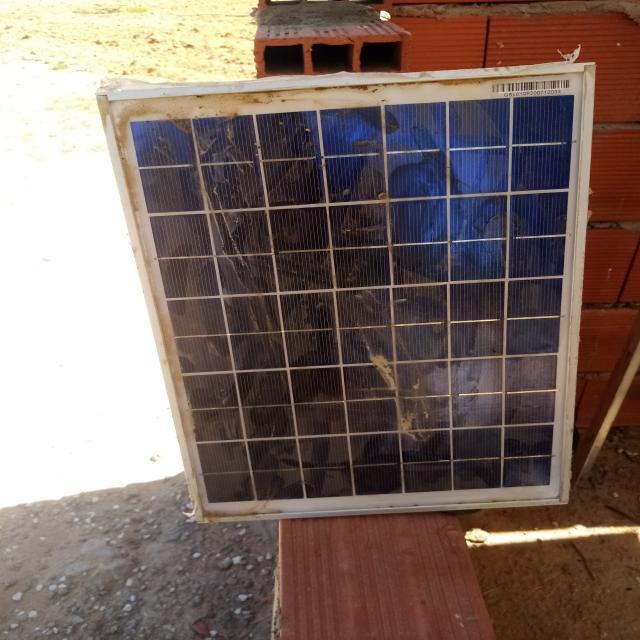faulty: (104, 66, 591, 521)
